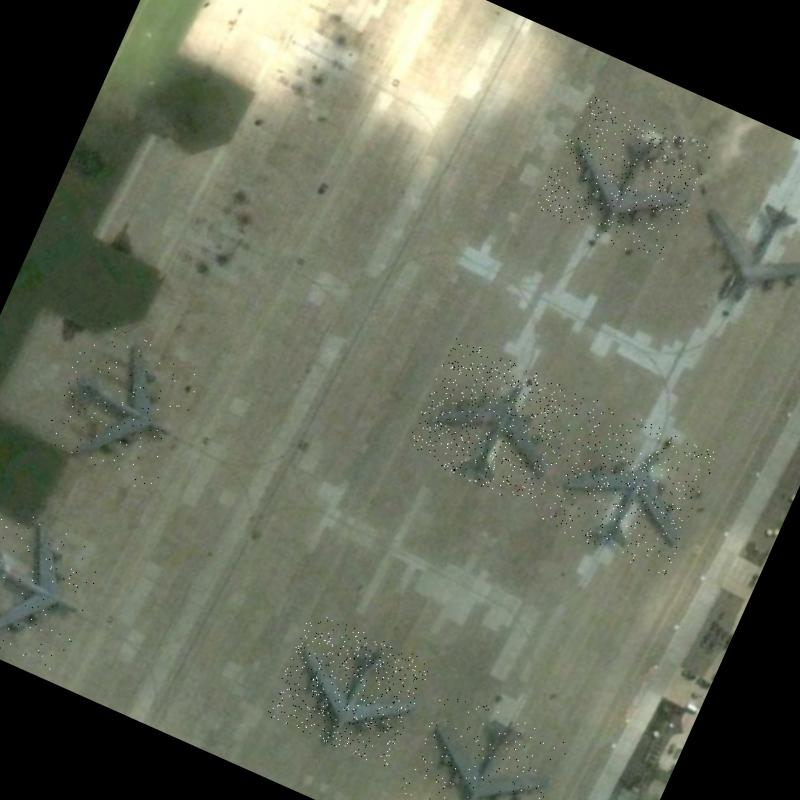A8: (540, 399, 720, 578), (404, 336, 588, 511), (533, 92, 715, 266), (38, 316, 208, 494), (265, 609, 433, 769), (671, 169, 800, 338), (396, 686, 571, 800), (0, 499, 112, 675)
